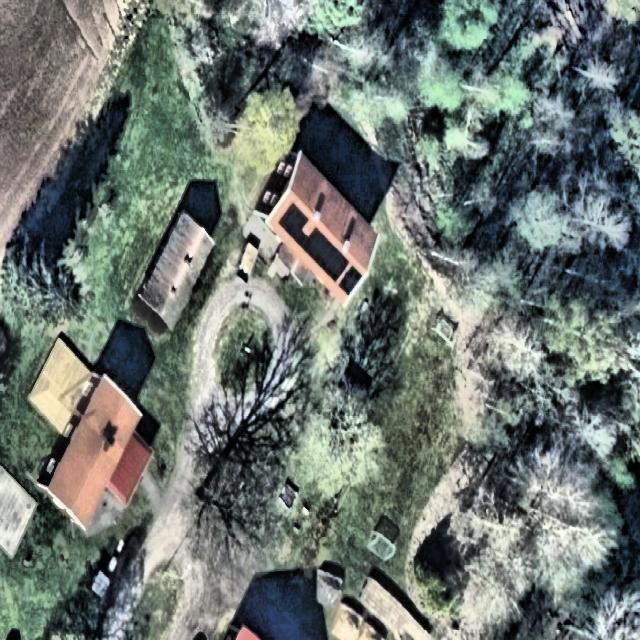roof_pv: (304, 226, 341, 284), (271, 202, 310, 241), (337, 255, 363, 301)
